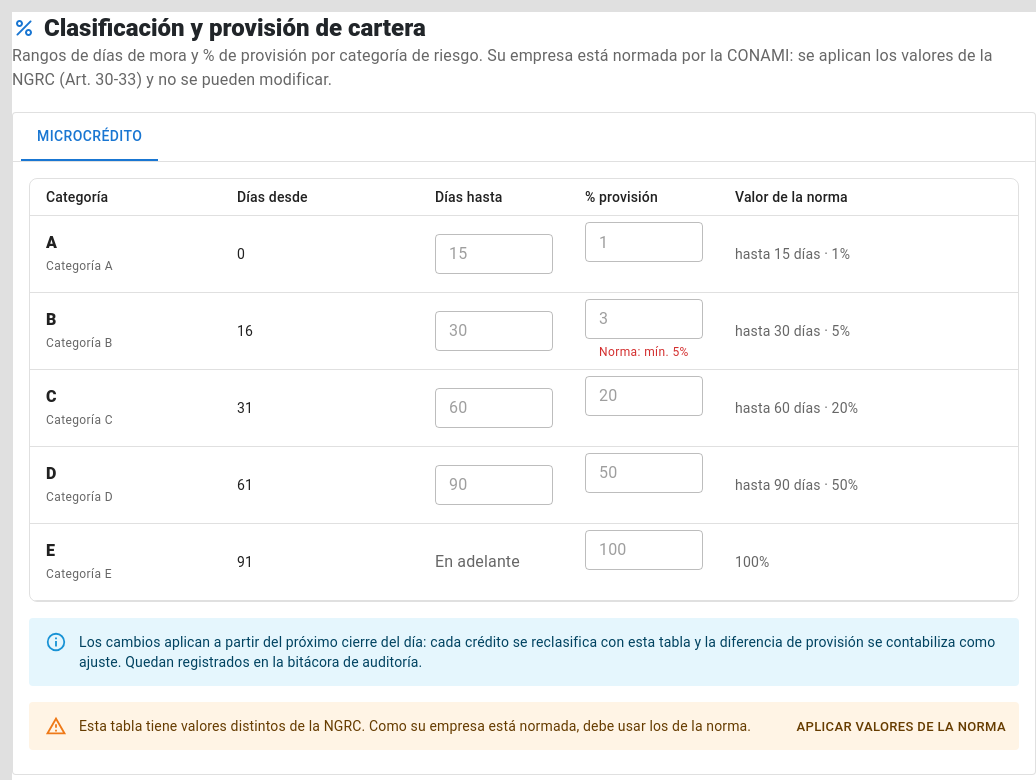
Provisión de cartera según si la empresa está normada › normada con valores distintos de la norma: ofrece aplicar los de la norma
Click the button "Aplicar valores de la norma".
click(901, 727)  # box [791,712,1011,742]
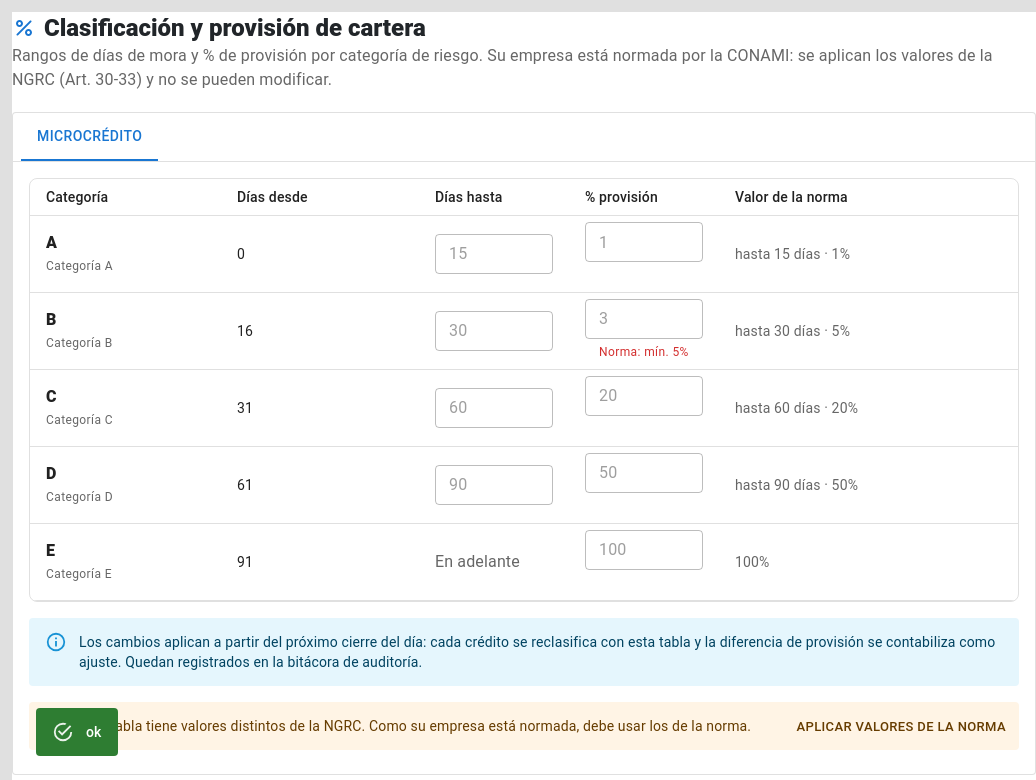
Check: the text "ok" is shown, box [86,724,102,740]
